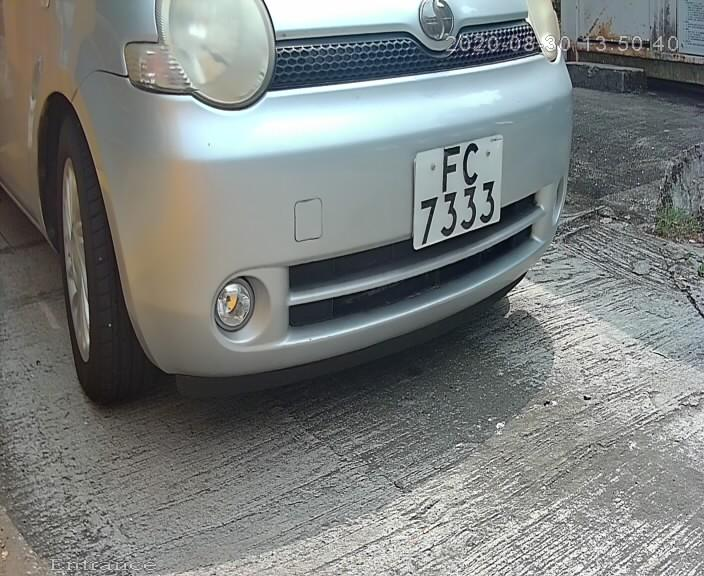License Plate: (400, 124, 513, 260)
